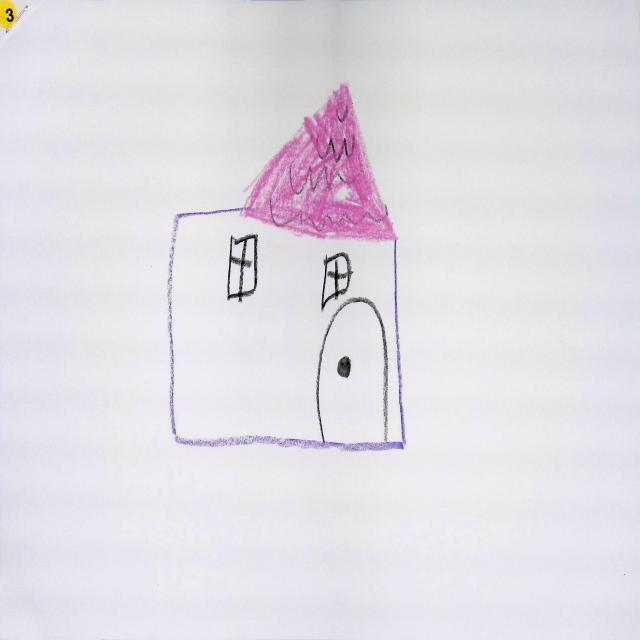door: (316, 297, 389, 444)
house: (169, 84, 405, 451)
roof: (243, 84, 397, 241)
wall: (171, 207, 403, 452)
window: (227, 236, 258, 302), (322, 253, 353, 310)
